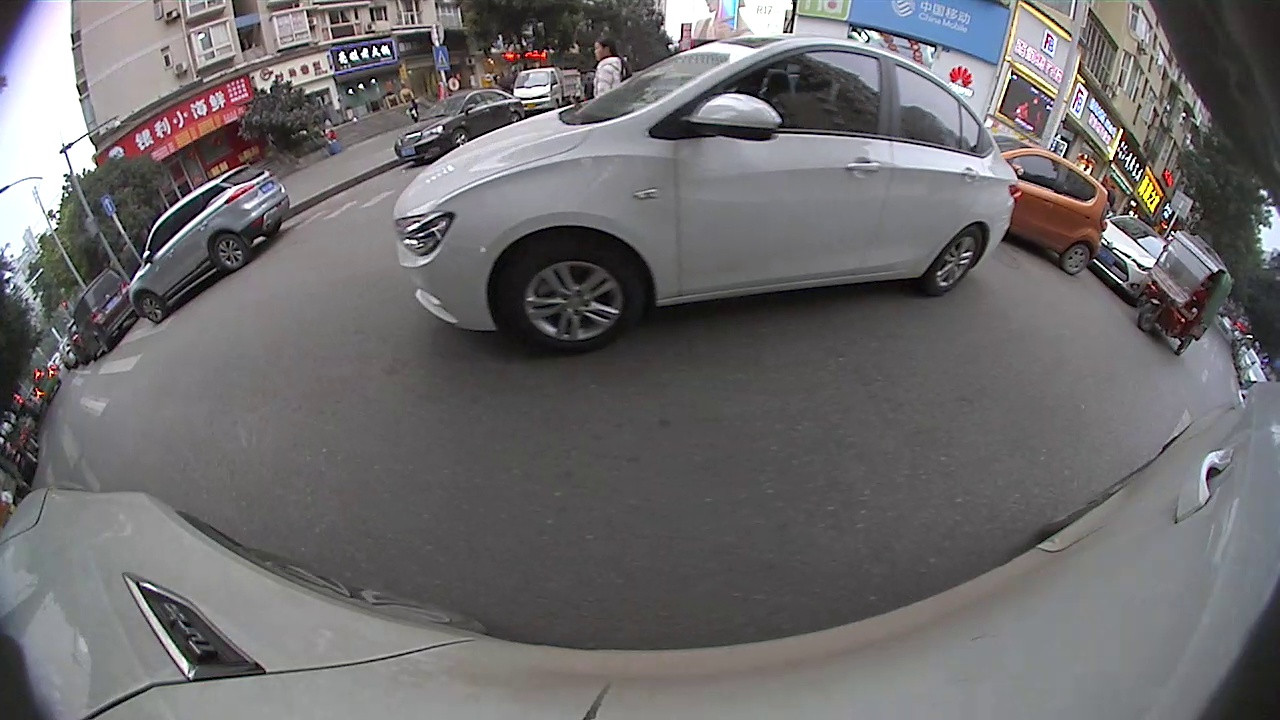car: (124, 159, 292, 328), (990, 131, 1109, 278), (392, 84, 530, 172), (1085, 213, 1171, 306), (68, 265, 143, 364)
front: (496, 244, 653, 349), (130, 292, 176, 325), (1135, 301, 1164, 333)
person: (587, 34, 629, 97)
rear: (927, 228, 988, 293), (211, 236, 250, 269), (1061, 240, 1096, 275)
rider: (1132, 226, 1239, 360)
